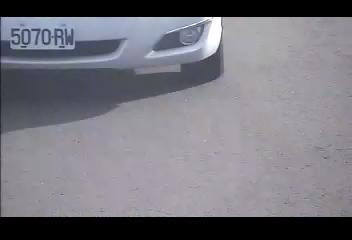plate: (8, 23, 75, 50)
